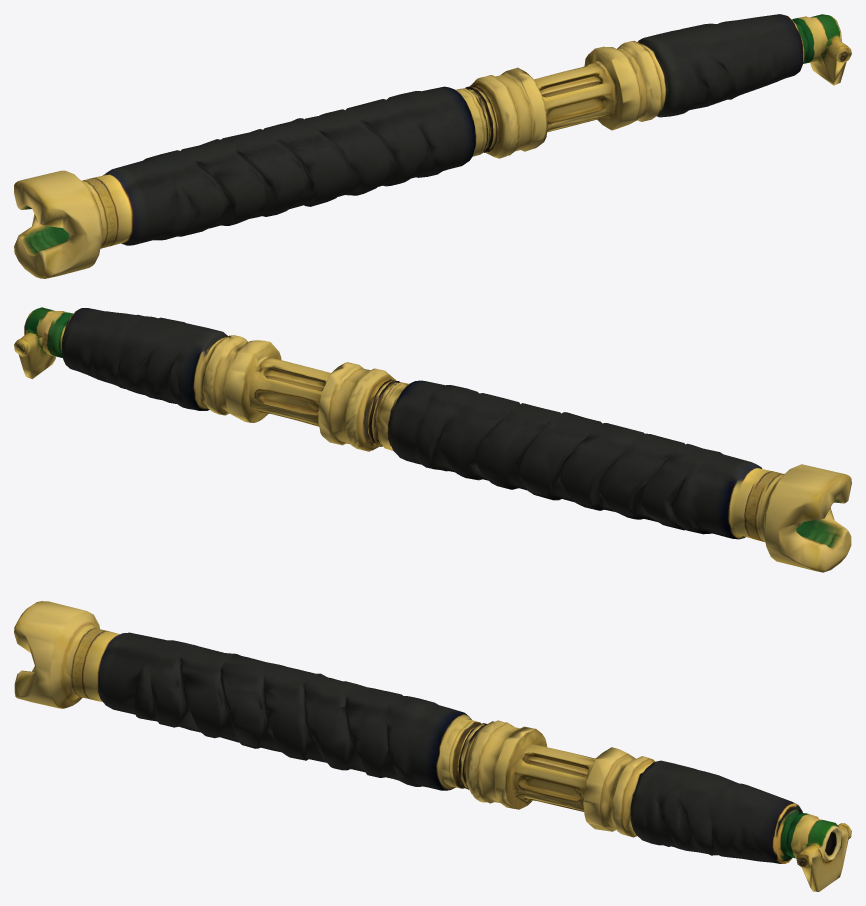
The model's file is gear-rod9.glb.
The picture shows the model from 3 angles, top to bottom: view 1: azimuth 30°, elevation 25°; view 2: azimuth 150°, elevation 25°; view 3: azimuth 330°, elevation 25°; orthographic projection.
Parts seen in each view (by area): view 1: tripo_node_440ab364-f886-4ea1-9733-cc2aa35c4dec; view 2: tripo_node_440ab364-f886-4ea1-9733-cc2aa35c4dec; view 3: tripo_node_440ab364-f886-4ea1-9733-cc2aa35c4dec.
Part boxes in pixels (x1=…): tripo_node_440ab364-f886-4ea1-9733-cc2aa35c4dec: x1=14, y1=14, x2=851, y2=278; tripo_node_440ab364-f886-4ea1-9733-cc2aa35c4dec: x1=14, y1=307, x2=851, y2=572; tripo_node_440ab364-f886-4ea1-9733-cc2aa35c4dec: x1=14, y1=601, x2=851, y2=891.
Size of the model in its own units: 1 by 0.1047 by 0.1108.
1 material, 1 textured.
